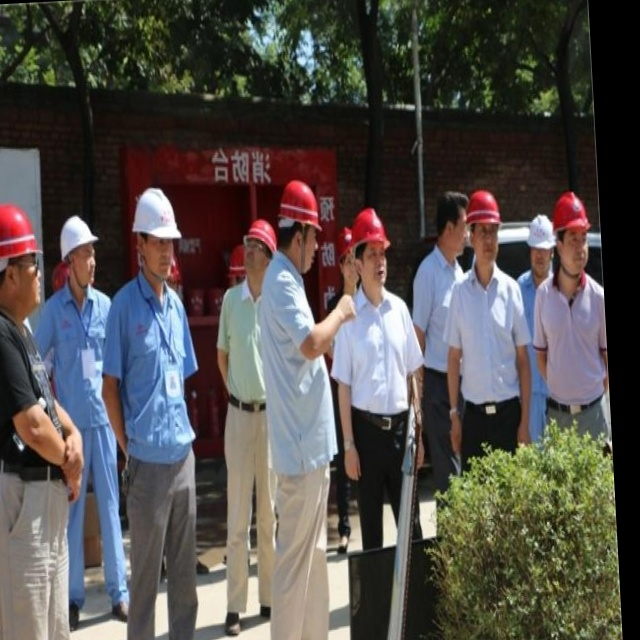Con_Casco: (130, 186, 184, 283)
Sin_Casco_Mascarrilla: (433, 189, 471, 262)
